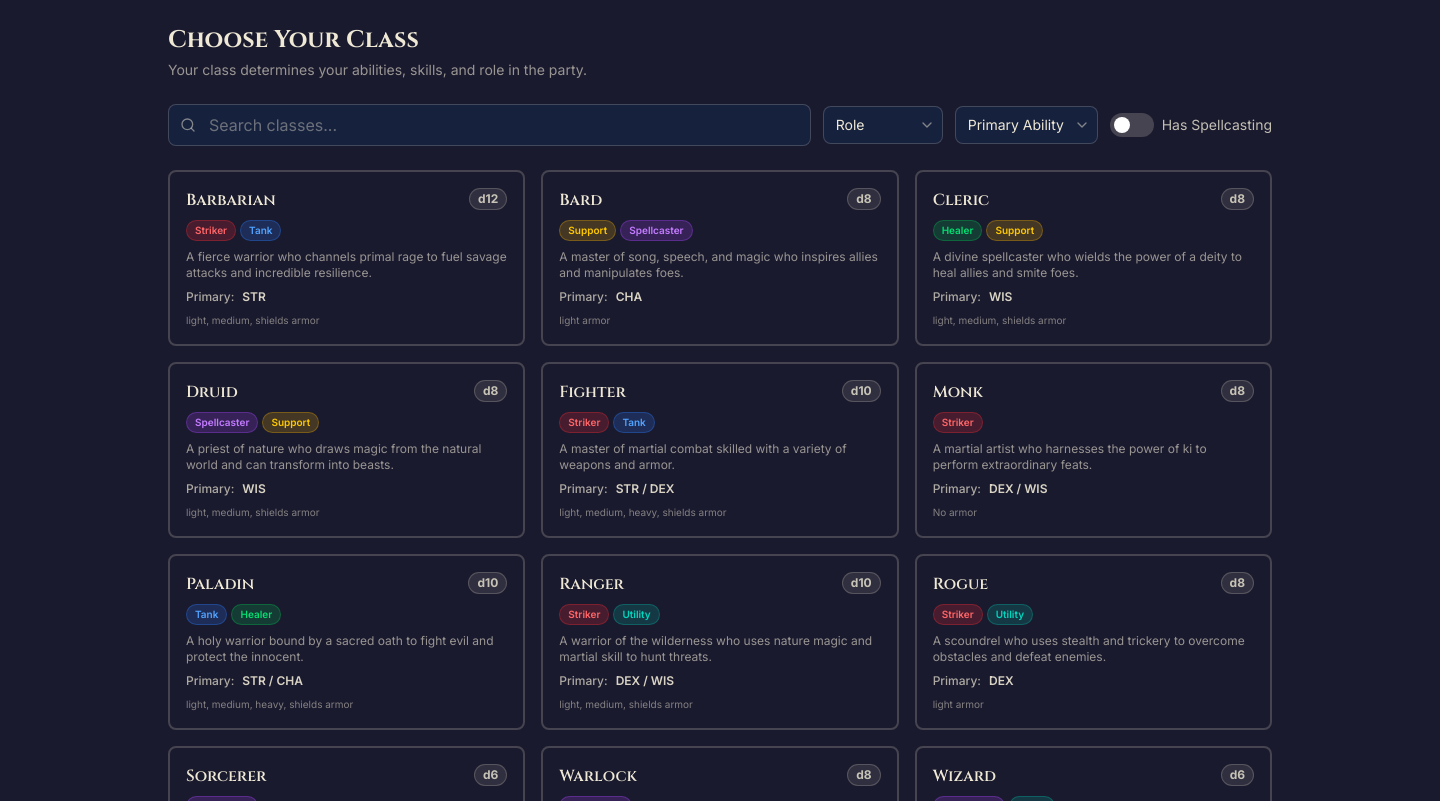
it: ClassStep › selects a class when clicked
Click the heading "Fighter" at (593, 392), box top-left (559, 380), bottom-right (626, 404)
(page scrolled)
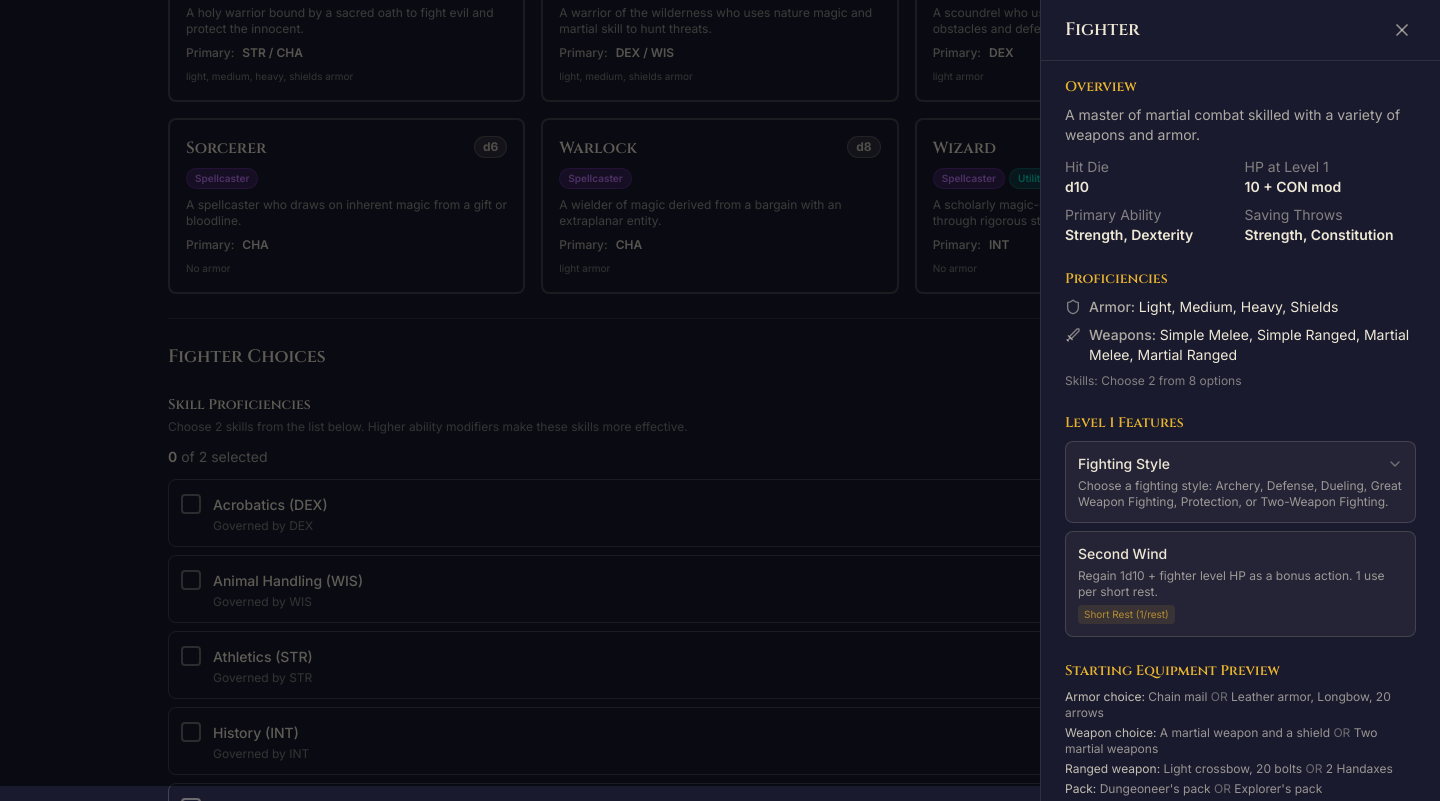
Result: the heading "Fighter Choices" is shown at top-left (168, 344), bottom-right (326, 369)
Result: the heading "Skill Proficiencies" is shown at top-left (168, 395), bottom-right (311, 414)
